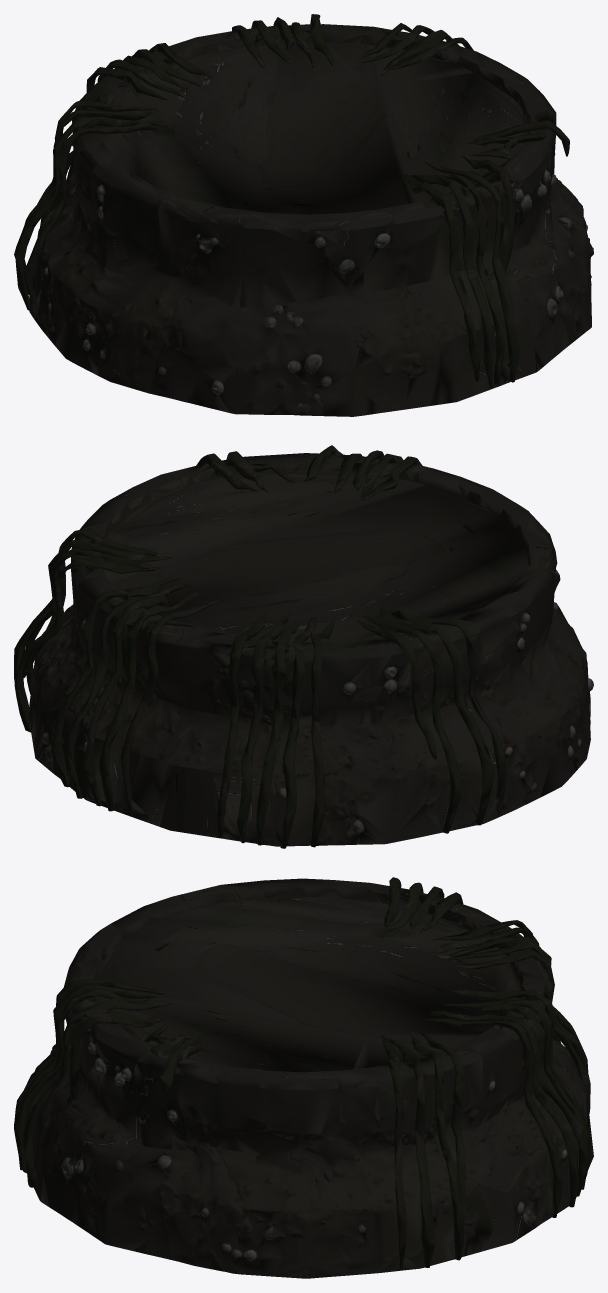
Rendered from rock-island.glb.
The picture shows the model from 3 angles, top to bottom: view 1: azimuth 30°, elevation 25°; view 2: azimuth 150°, elevation 25°; view 3: azimuth 270°, elevation 25°; orthographic projection.
Visible parts, largest first — view 1: Basalt Kelp Ledge; view 2: Basalt Kelp Ledge; view 3: Basalt Kelp Ledge.
Part boxes in pixels (box(x1,y1,x2,y2)): Basalt Kelp Ledge: box(14, 14, 593, 416); Basalt Kelp Ledge: box(14, 445, 593, 848); Basalt Kelp Ledge: box(14, 877, 593, 1278).
Bounding box in the file's own units: 1.89 × 0.6781 × 1.89.
Materials: 1 (1 with a texture image).
